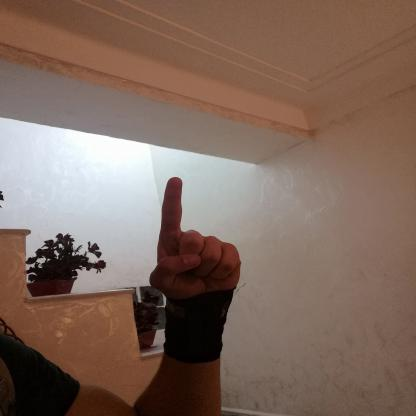BAA: (135, 168, 253, 310)
